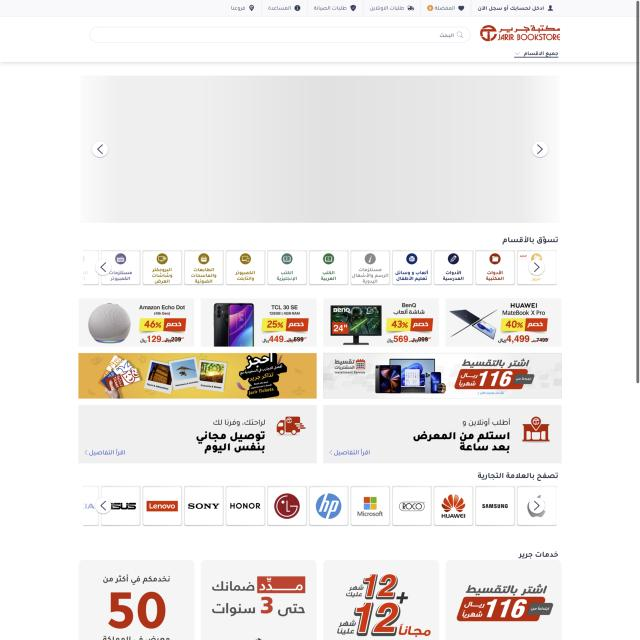input: (88, 24, 472, 44)
logo: (478, 22, 563, 46)
navigation: (227, 2, 559, 15), (89, 138, 109, 159), (531, 140, 548, 158)
